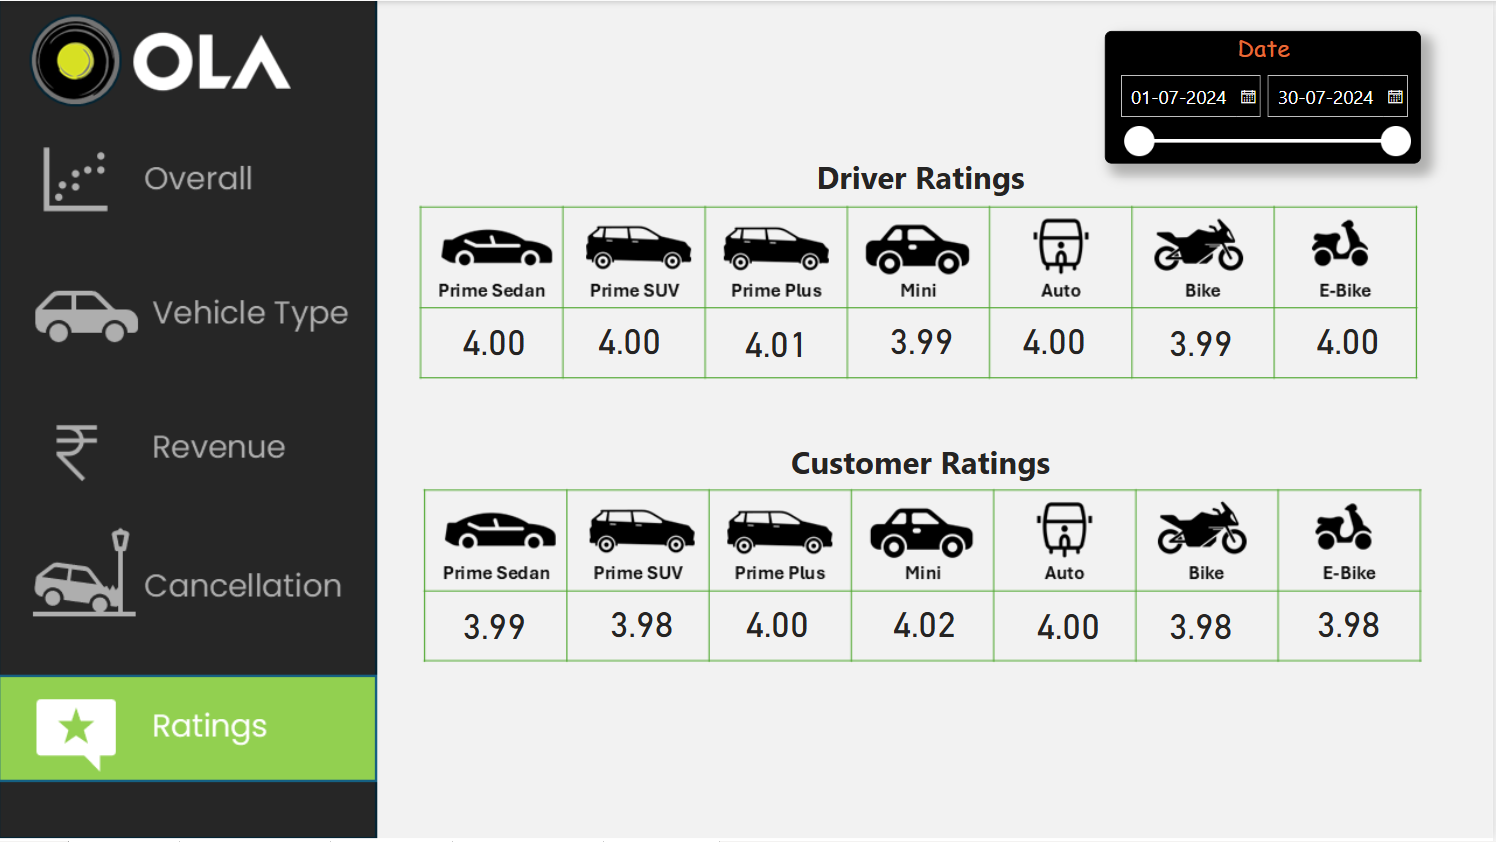

The dashboard page shown, as its layout file describes it:
{"tool":"powerbi","page":{"name":"Ratings","canvas":[1280,720],"ordinal":4},"visuals":[{"type":"actionButton","box":[0,225.9,324.8,86.7],"z":0},{"type":"actionButton","box":[0,337,324.8,91.6],"z":1000},{"type":"actionButton","box":[0,446.9,324.8,86.7],"z":2000},{"type":"actionButton","box":[0,108.7,324.8,86.7],"z":3000},{"type":"card","fields":{"Values":["Avg(Bookings (2).Driver_Ratings)"]},"box":[361.6,260.2,125.4,61.4],"z":4000},{"type":"card","fields":{"Values":["Avg(Bookings (2).Driver_Ratings)"]},"box":[477.5,259.3,125.4,61.8],"z":5000},{"type":"card","fields":{"Values":["Avg(Bookings (2).Driver_Ratings)"]},"box":[602.9,261.1,125.4,61.8],"z":6000},{"type":"card","fields":{"Values":["Avg(Bookings (2).Driver_Ratings)"]},"box":[728.2,259.3,125.4,61.8],"z":7000},{"type":"card","fields":{"Values":["Avg(Bookings (2).Driver_Ratings)"]},"box":[841.6,259.3,125.4,61.8],"z":8000},{"type":"card","fields":{"Values":["Avg(Bookings (2).Driver_Ratings)"]},"box":[967,261.1,125.4,60.1],"z":9000},{"type":"card","fields":{"Values":["Avg(Bookings (2).Driver_Ratings)"]},"box":[1092.4,259.3,125.4,61.8],"z":10000},{"type":"card","fields":{"Values":["Avg(Bookings (2).Customer_Rating)"]},"box":[361.6,503.2,126.1,61.7],"z":11000},{"type":"card","fields":{"Values":["Avg(Bookings (2).Customer_Rating)"]},"box":[487.8,501.5,127.1,61.8],"z":12000},{"type":"card","fields":{"Values":["Avg(Bookings (2).Customer_Rating)"]},"box":[602.9,501.5,127.1,61.8],"z":13000},{"type":"card","fields":{"Values":["Avg(Bookings (2).Customer_Rating)"]},"box":[730,501.5,125.4,61.8],"z":14000},{"type":"card","fields":{"Values":["Avg(Bookings (2).Customer_Rating)"]},"box":[853.6,503.2,125.4,61.8],"z":15000},{"type":"card","fields":{"Values":["Avg(Bookings (2).Customer_Rating)"]},"box":[967,503.2,125.4,61.8],"z":16000},{"type":"card","fields":{"Values":["Avg(Bookings (2).Customer_Rating)"]},"box":[1092.4,501.5,127.1,61.8],"z":17000},{"type":"textbox","box":[361.6,126.8,856.6,48],"z":18000},{"type":"textbox","box":[361.6,370.9,856.6,46.7],"z":18001},{"type":"slicer","title":"Date","fields":{"Values":["Bookings (2).Date"]},"box":[947.3,25.4,270.9,113.4],"z":18002}]}

Visuals, with their boxes on the page's 1280x720 design canvas (x1, y1, x2, y2). These are canvas units, not pixel positions in the 1496x842 screenshot, which may show the page scaled, cropped or inside an application window:
actionButton: [left=0, top=226, right=325, bottom=313]
actionButton: [left=0, top=337, right=325, bottom=429]
actionButton: [left=0, top=447, right=325, bottom=534]
actionButton: [left=0, top=109, right=325, bottom=195]
card - Avg(Bookings (2).Driver_Ratings): [left=362, top=260, right=487, bottom=322]
card - Avg(Bookings (2).Driver_Ratings): [left=478, top=259, right=603, bottom=321]
card - Avg(Bookings (2).Driver_Ratings): [left=603, top=261, right=728, bottom=323]
card - Avg(Bookings (2).Driver_Ratings): [left=728, top=259, right=854, bottom=321]
card - Avg(Bookings (2).Driver_Ratings): [left=842, top=259, right=967, bottom=321]
card - Avg(Bookings (2).Driver_Ratings): [left=967, top=261, right=1092, bottom=321]
card - Avg(Bookings (2).Driver_Ratings): [left=1092, top=259, right=1218, bottom=321]
card - Avg(Bookings (2).Customer_Rating): [left=362, top=503, right=488, bottom=565]
card - Avg(Bookings (2).Customer_Rating): [left=488, top=502, right=615, bottom=563]
card - Avg(Bookings (2).Customer_Rating): [left=603, top=502, right=730, bottom=563]
card - Avg(Bookings (2).Customer_Rating): [left=730, top=502, right=855, bottom=563]
card - Avg(Bookings (2).Customer_Rating): [left=854, top=503, right=979, bottom=565]
card - Avg(Bookings (2).Customer_Rating): [left=967, top=503, right=1092, bottom=565]
card - Avg(Bookings (2).Customer_Rating): [left=1092, top=502, right=1220, bottom=563]
textbox: [left=362, top=127, right=1218, bottom=175]
textbox: [left=362, top=371, right=1218, bottom=418]
"Date" slicer: [left=947, top=25, right=1218, bottom=139]
